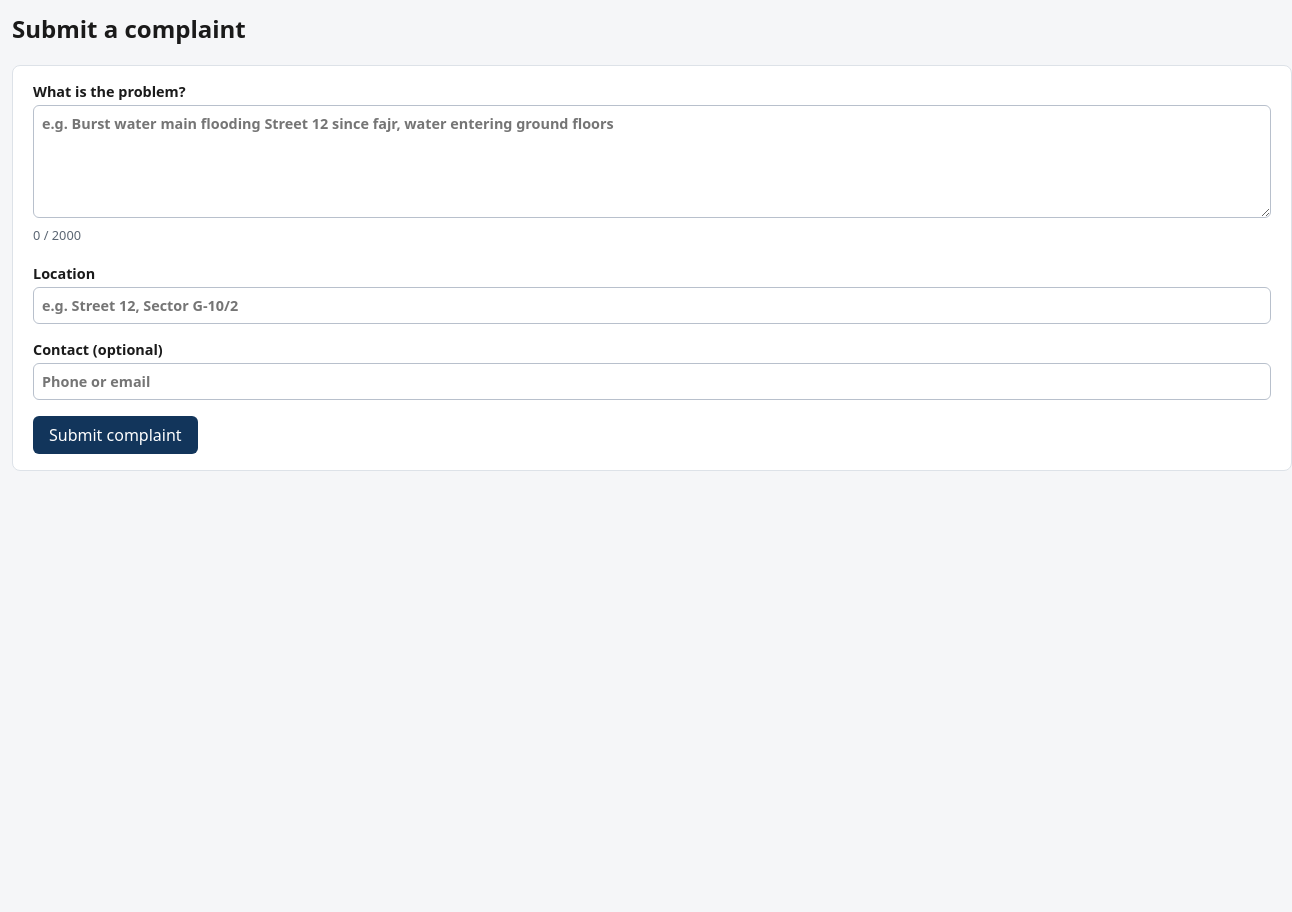
Test: SubmitPage › renders category, priority, summary and provider after success
Type "Burst water main flooding Street 12" into the text box labelled "What is the problem? 0 / 2000" at (652, 161), box [33,105,1271,218]
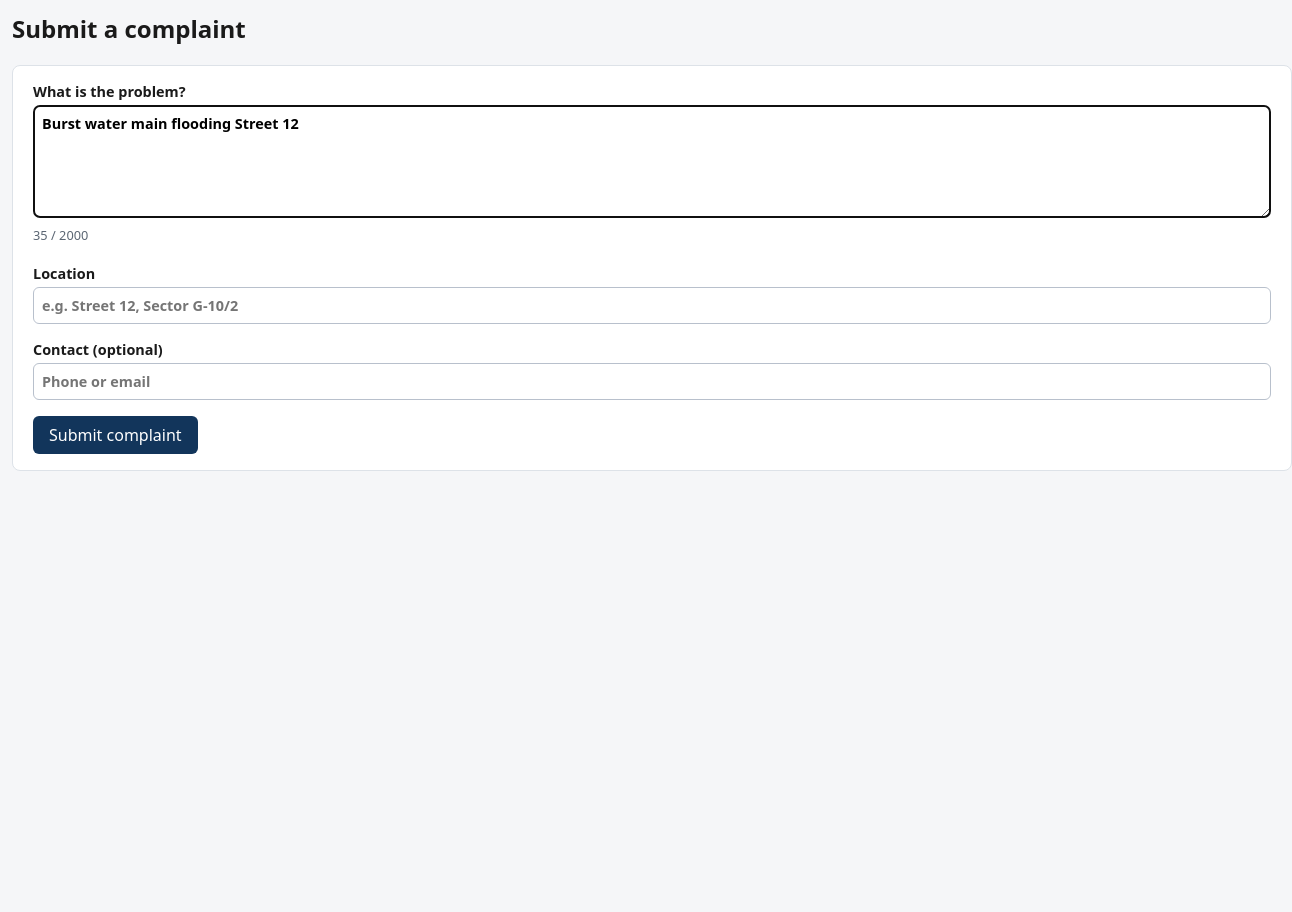
Type "Street 12" into the field labelled "Location" at (652, 305), box [33,287,1271,324]
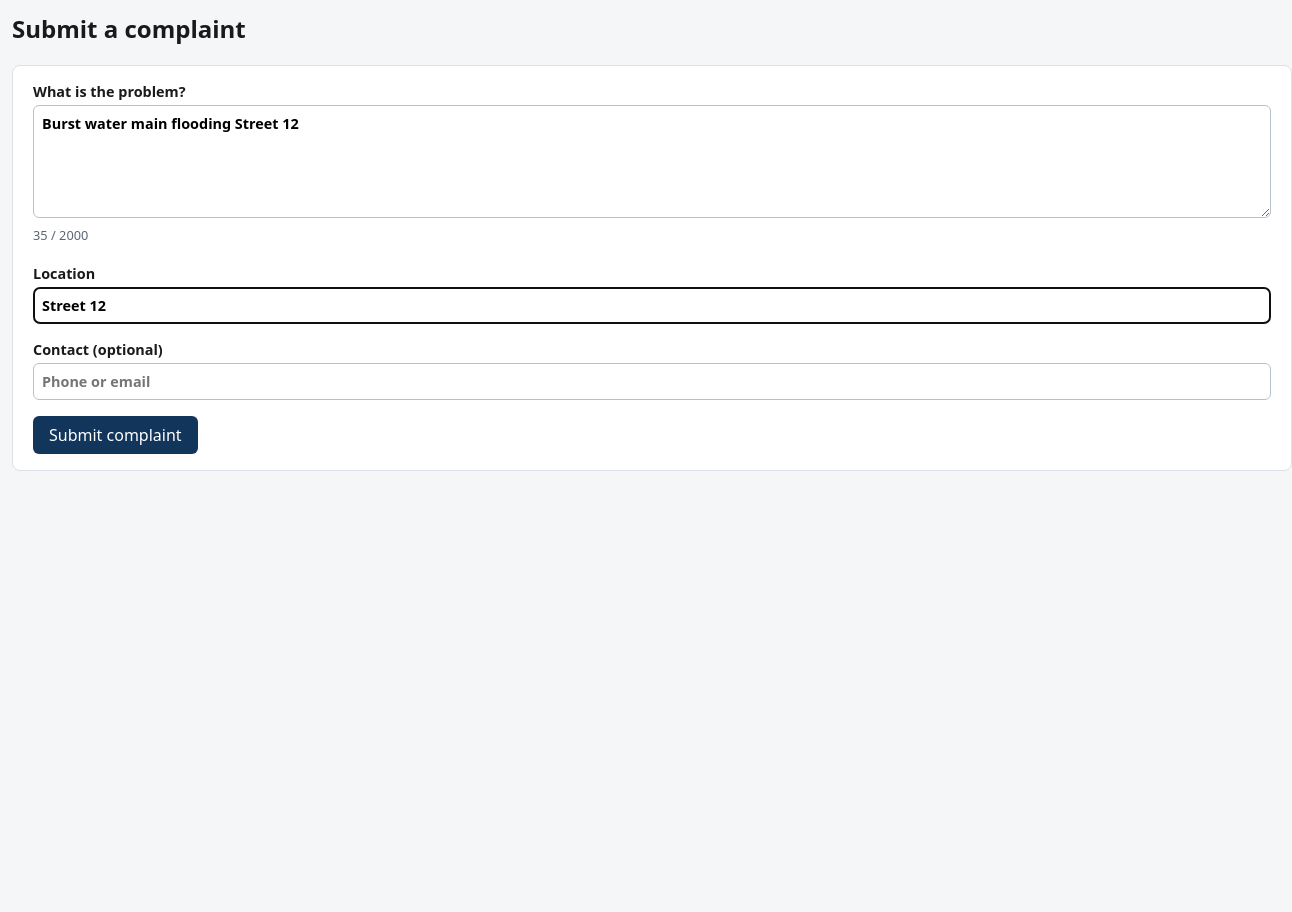
Click the button "Submit complaint" at (115, 435), box [33,416,198,454]
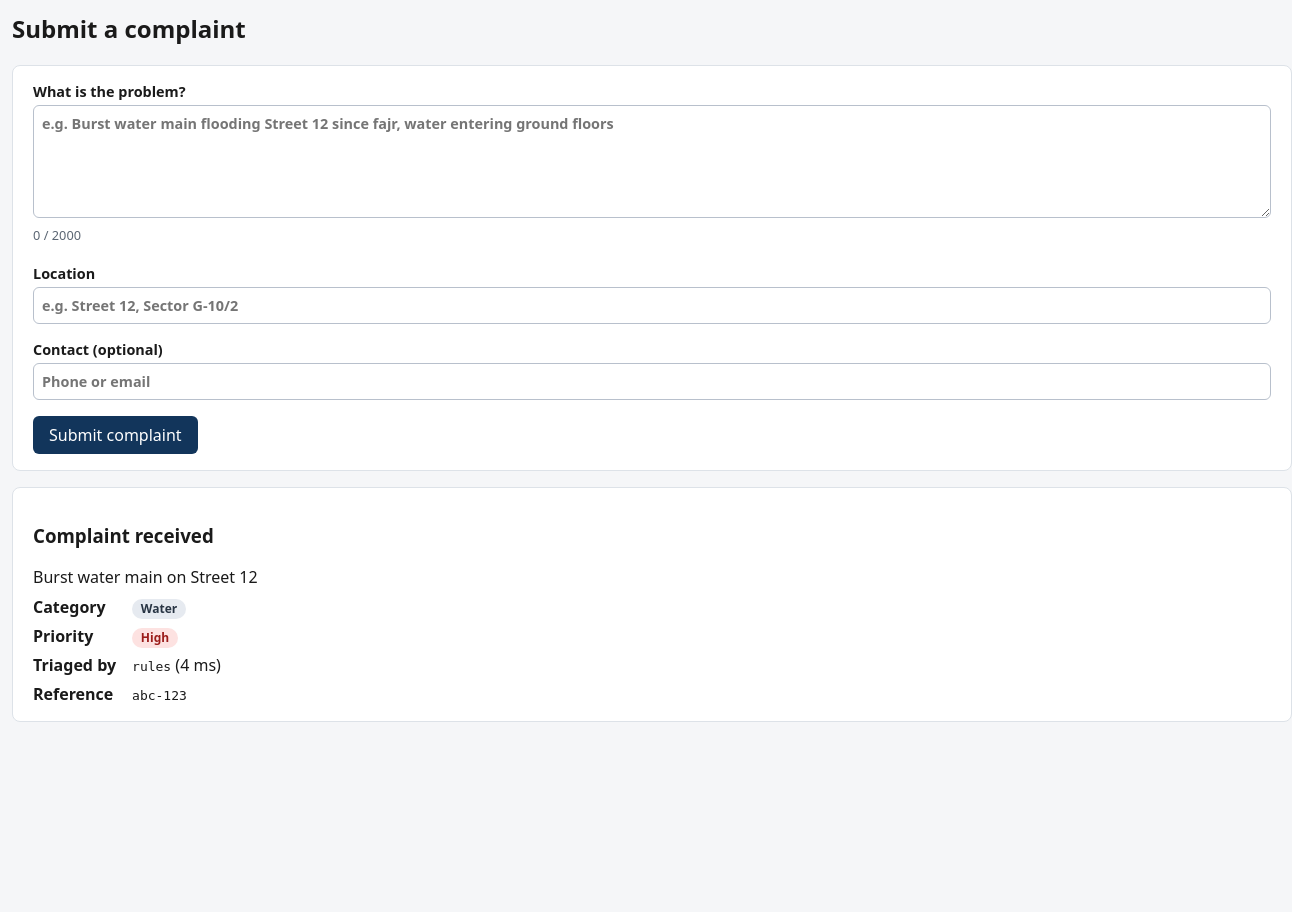
Check: the heading "Complaint received" is shown, box [33,523,214,548]
Check: the text "Burst water main on Street 12" is shown, box [33,566,258,588]
Check: the text "water" is shown, box [132,599,186,619]
